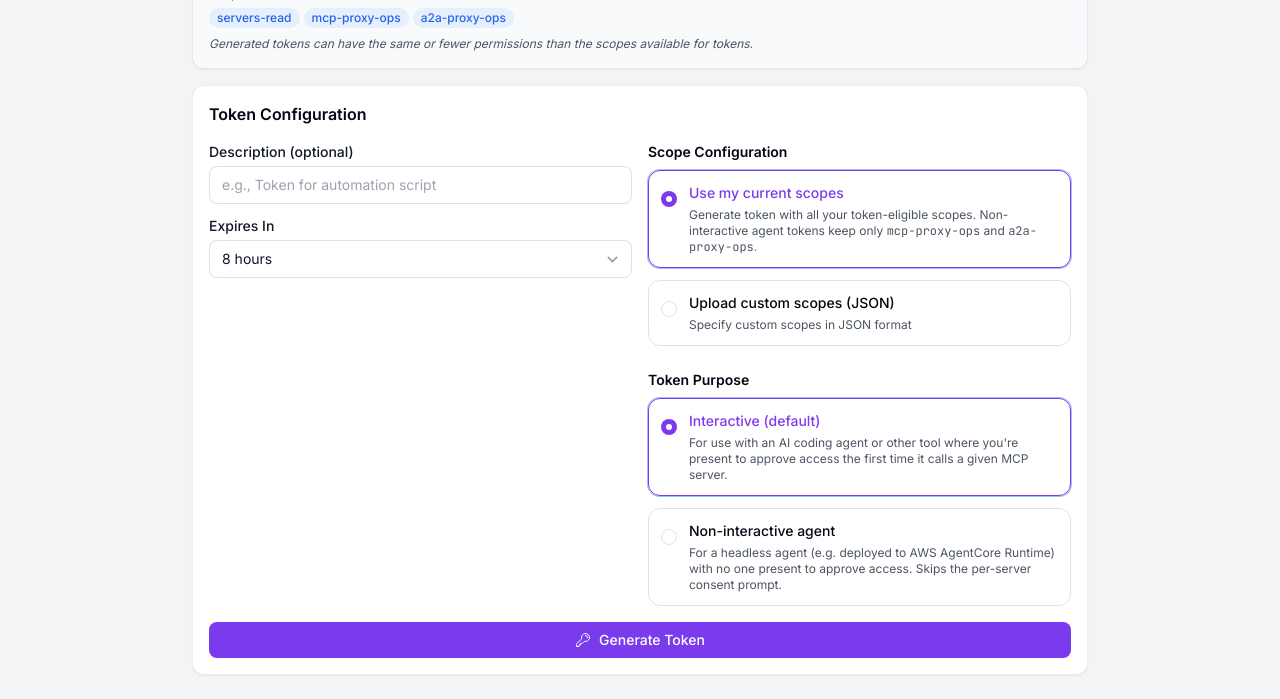
Scenario: TokenGeneration › a 400 shows a persistent alert and hides an earlier success card
(page scrolled)
Click the button "Generate Token": x=640, y=640 [209,622,1071,658]
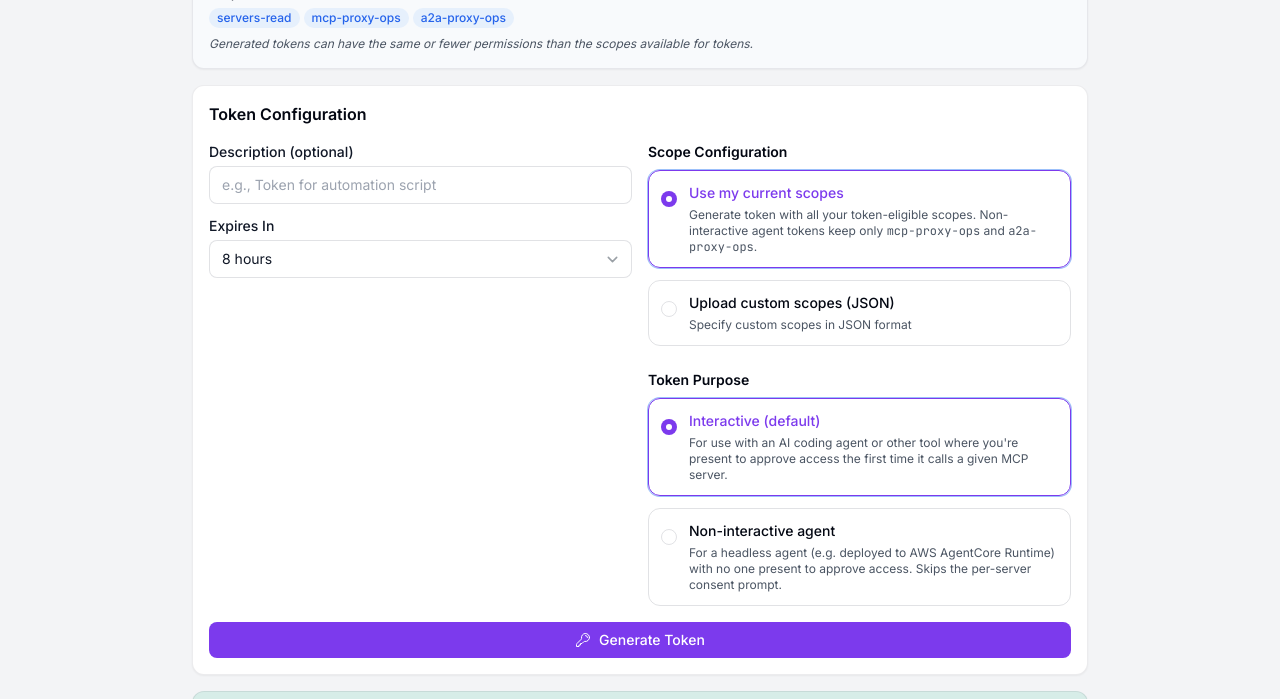
Click the button "Generate Token": x=640, y=640 [209,622,1071,658]
(page scrolled)
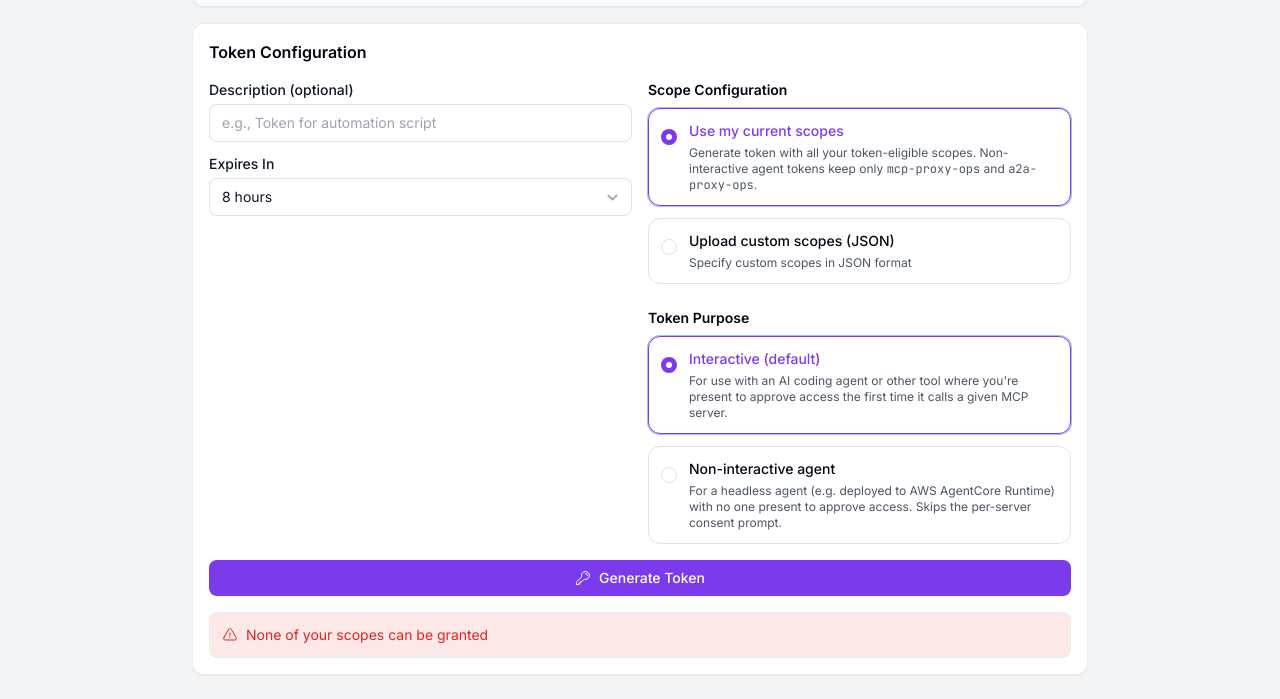
Result: the message reads "None of your scopes can be granted" at [246,626,488,643]
Result: the message "None of your scopes can be granted" is shown at [209,612,1071,658]
